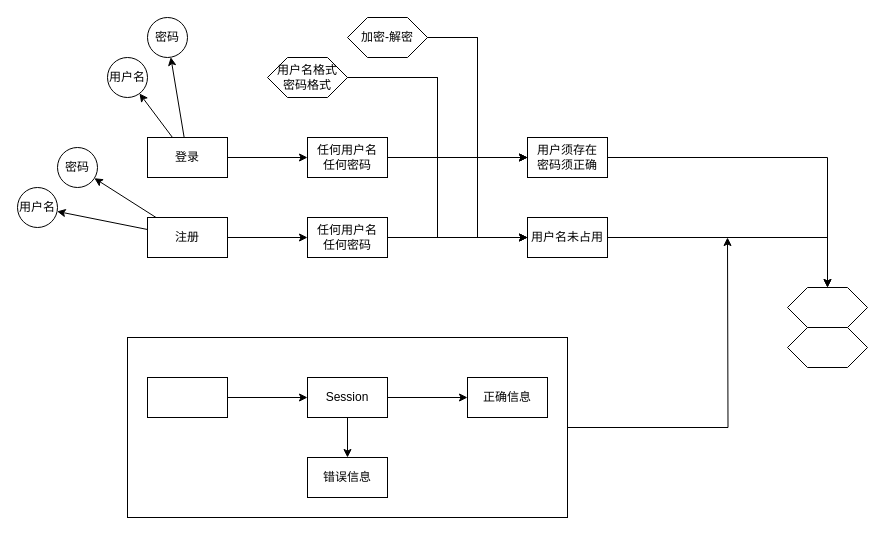
This 885x535 diagram has some shape labels left out. The shapes that lost their labels are listed below. From the top down, each one's box as (x1, y1, x2, y2) in pixels, then its label:
(786, 286, 868, 328): 错误码
(786, 326, 868, 368): 统一返回
(146, 376, 228, 418): 浏览页面
